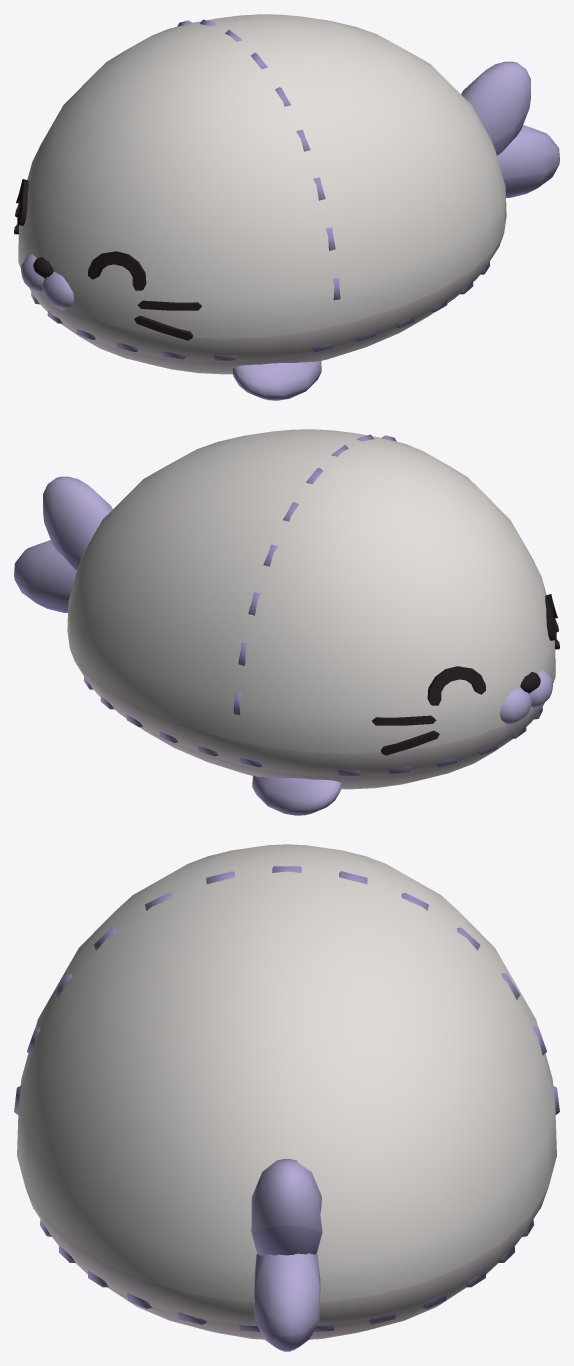
File: Cosmetic_SealPillow_White.glb
3 renders of one model, top to bottom at view 1: azimuth 30°, elevation 25°; view 2: azimuth 150°, elevation 25°; view 3: azimuth 270°, elevation 25°, orthographic. The views are drawn at different scales.
Parts seen in each view (by area): view 1: Cosmetic_SealPillow_White; view 2: Cosmetic_SealPillow_White; view 3: Cosmetic_SealPillow_White.
Boxes of the visible parts, box(x1,y1,x2,y2) form: Cosmetic_SealPillow_White: box(14, 14, 559, 400); Cosmetic_SealPillow_White: box(14, 429, 559, 815); Cosmetic_SealPillow_White: box(14, 844, 559, 1351).
Size of the model in its own units: 0.5914 by 0.3323 by 0.4125.
